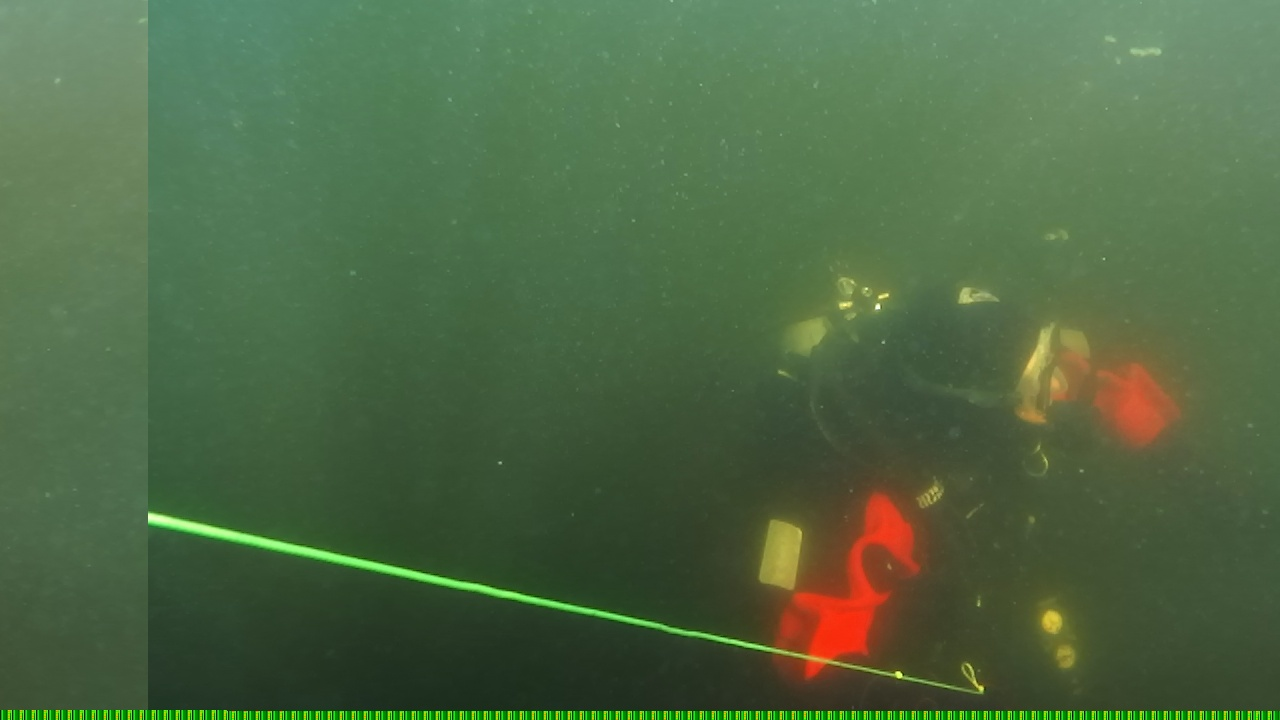Diver: (720, 252, 1174, 716)
Head: (902, 274, 1086, 472)
